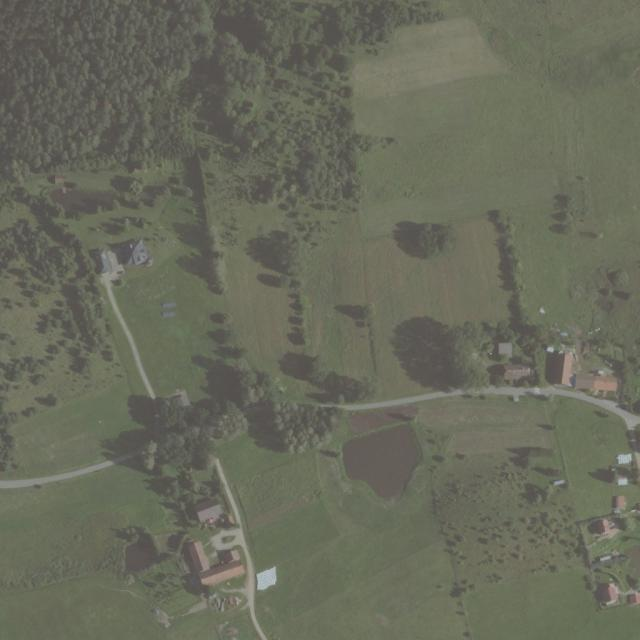building: (579, 496, 640, 610), (84, 241, 127, 287), (197, 558, 246, 588), (112, 239, 152, 268), (546, 351, 574, 385), (185, 538, 211, 573), (574, 374, 618, 394), (194, 496, 224, 524), (586, 514, 614, 540), (209, 528, 240, 551), (594, 582, 619, 606), (504, 364, 534, 381), (497, 342, 513, 357), (616, 454, 633, 464), (617, 476, 628, 486)
greenland: (99, 222, 249, 406), (0, 377, 152, 500), (549, 385, 640, 521), (106, 520, 211, 631), (127, 396, 249, 471), (145, 445, 230, 531), (270, 401, 342, 457), (201, 573, 253, 616), (162, 196, 203, 229), (215, 614, 259, 640), (208, 594, 244, 613), (624, 537, 640, 541)
unmetalled_road: (214, 456, 271, 640), (101, 277, 158, 401), (0, 451, 143, 494), (340, 388, 462, 415), (480, 386, 595, 403), (420, 391, 458, 400)
